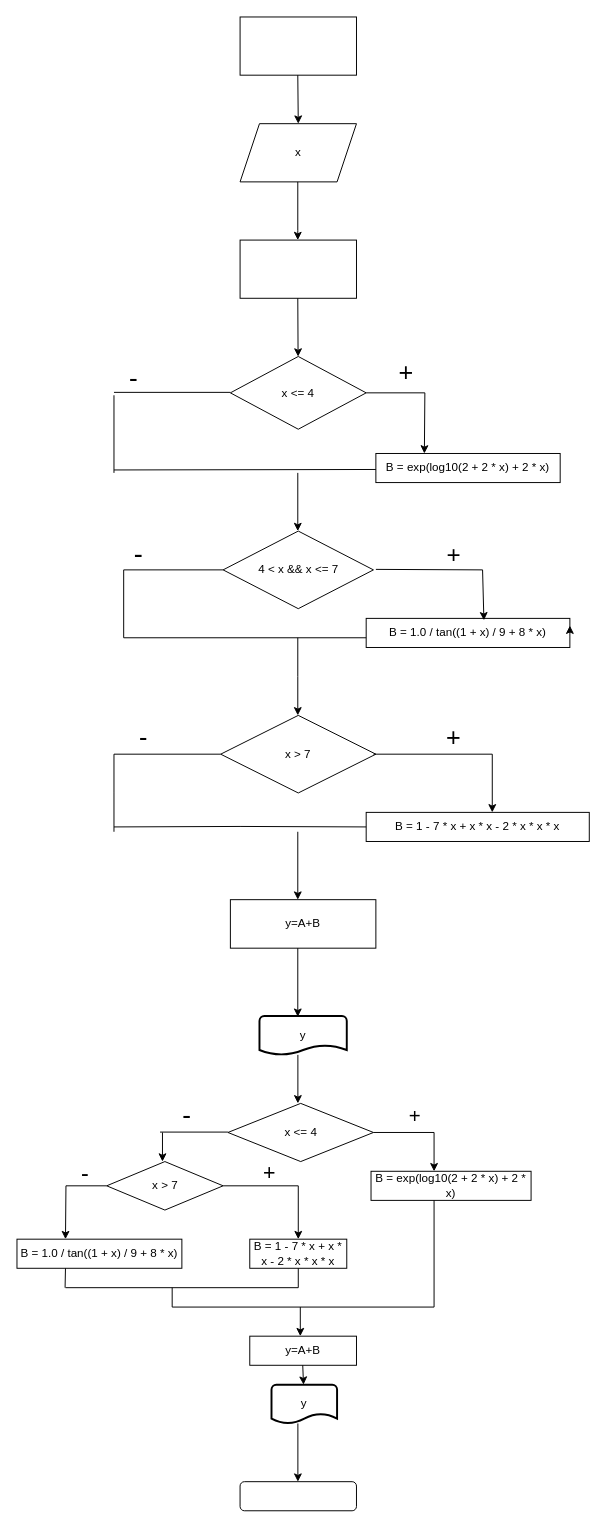
The diagram is 606 pixels wide and 1528 high, and some of its shapes have lost their labels. The box of each missing label's shape, as (x1, y1, x2, y2) in pixels:
A = 1 + x: (239, 239, 356, 298)
кінець: (239, 1481, 356, 1511)
початок: (239, 16, 356, 75)
